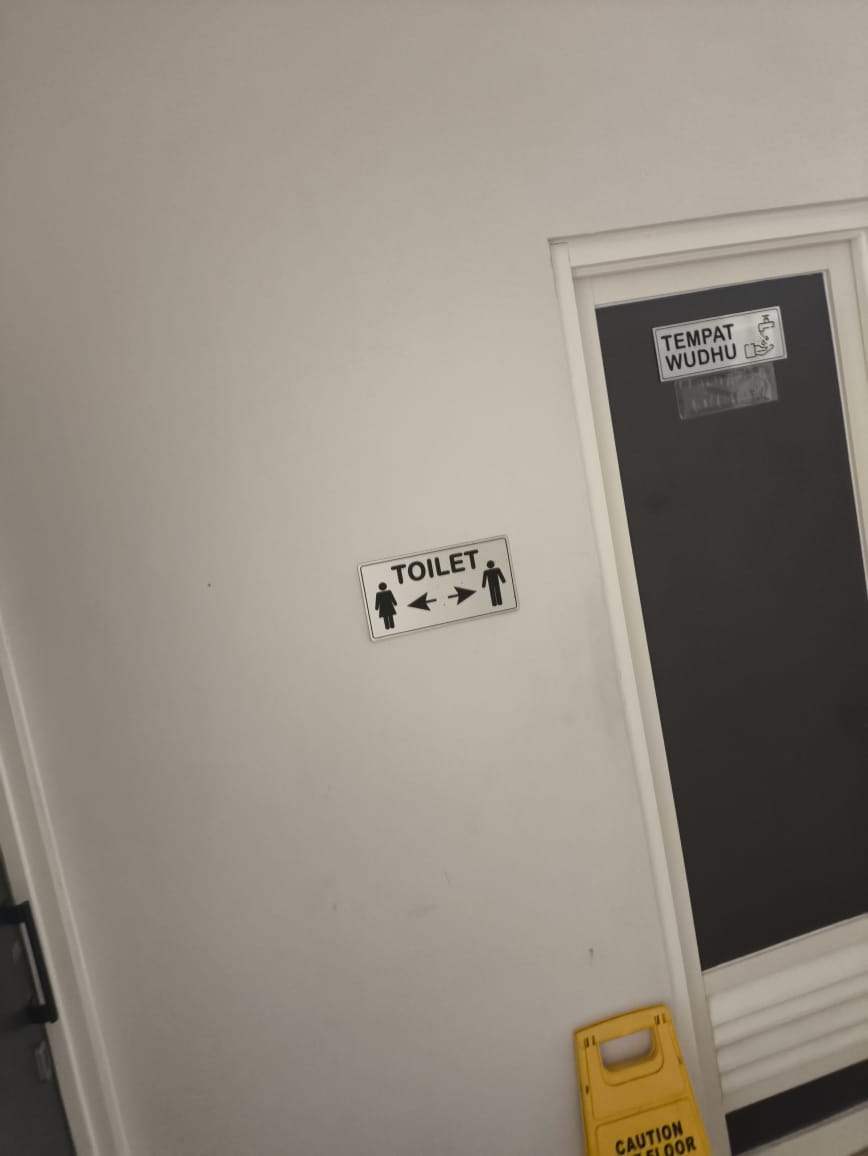tempat wudhu: (644, 300, 795, 389)
toilet: (346, 522, 524, 650)
